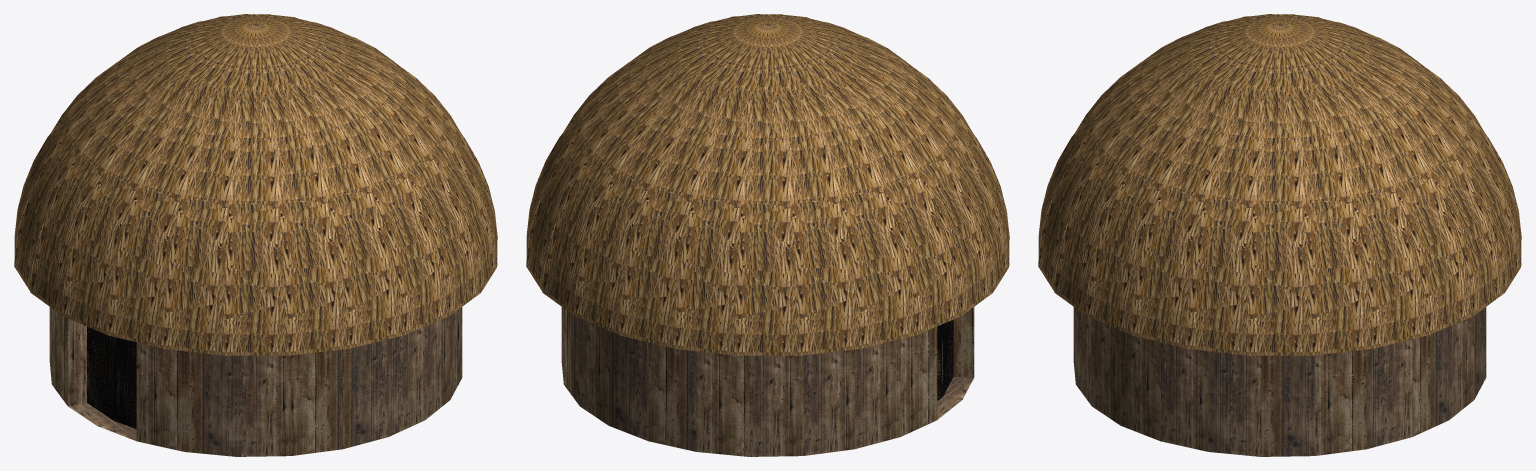
3 renders of one model, left to right at view 1: azimuth 30°, elevation 25°; view 2: azimuth 150°, elevation 25°; view 3: azimuth 270°, elevation 25°, orthographic.
Parts seen in each view (by area): view 1: papua_atap (×17), group_0 (×2); view 2: papua_atap (×17), group_0 (×2); view 3: papua_atap (×17), group_0.
Boxes of the visible parts, x1,y1,x2,y2 form: papua_atap (×17): (14,22,497,352); group_0 (×2): (49,307,462,456); papua_atap (×17): (526,22,1009,352); group_0 (×2): (561,307,974,456); papua_atap (×17): (1038,22,1521,352); group_0: (1073,307,1486,456).
Size of the model in its own units: 276 by 276 by 218.
